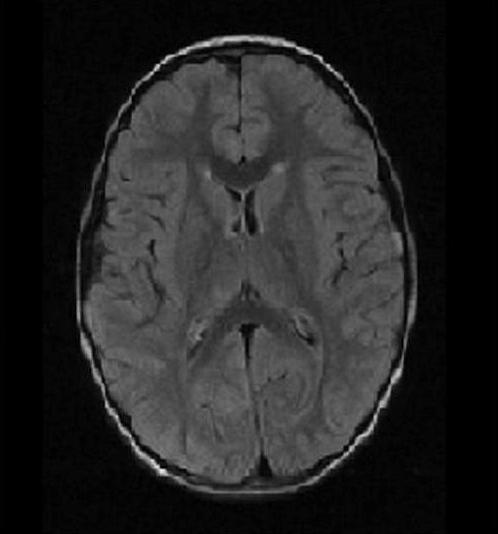Normal_Brain: (35, 1, 498, 524)
